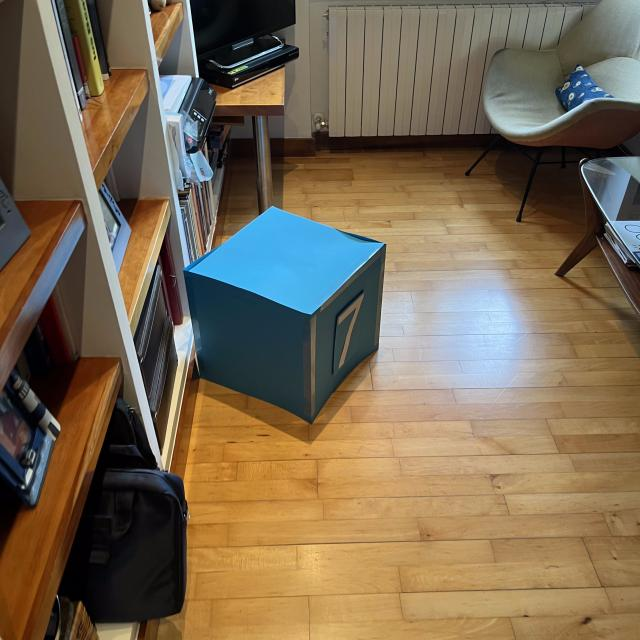box: (179, 202, 390, 426)
